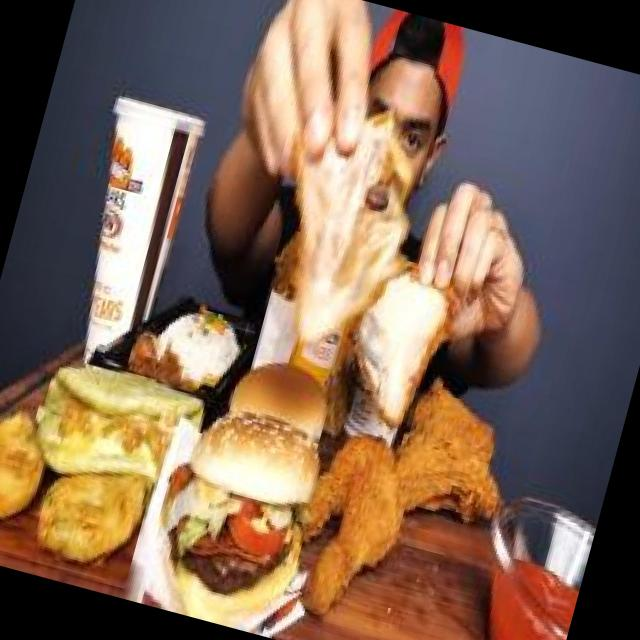AW cola: (38, 78, 225, 386)
black pepper rice bowl: (116, 288, 256, 415)
cheese burger: (220, 338, 352, 462)
fried chicken: (227, 82, 502, 450), (277, 340, 529, 640)
mango chicken pocket: (19, 339, 227, 514)
mozza burger: (134, 389, 345, 640)
perkedel: (26, 428, 162, 577), (0, 388, 72, 539)
